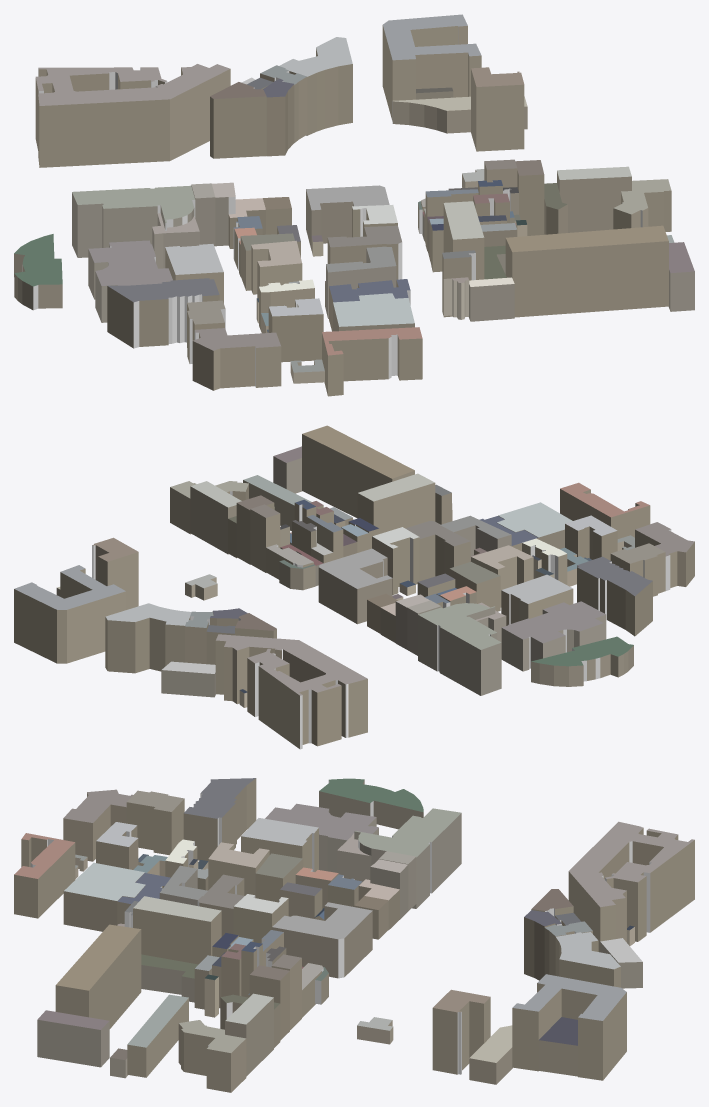
3 renders of one model, top to bottom at view 1: azimuth 30°, elevation 25°; view 2: azimuth 150°, elevation 25°; view 3: azimuth 270°, elevation 25°, orthographic. The views are drawn at different scales.
Visible parts, largest first — view 1: tuile; view 2: tuile; view 3: tuile.
Part boxes in pixels (bbox=[...]): tuile: bbox=[14, 14, 694, 396]; tuile: bbox=[14, 425, 694, 749]; tuile: bbox=[14, 778, 694, 1092].
Bounding box in the file's own units: 275 × 36.98 × 286.
